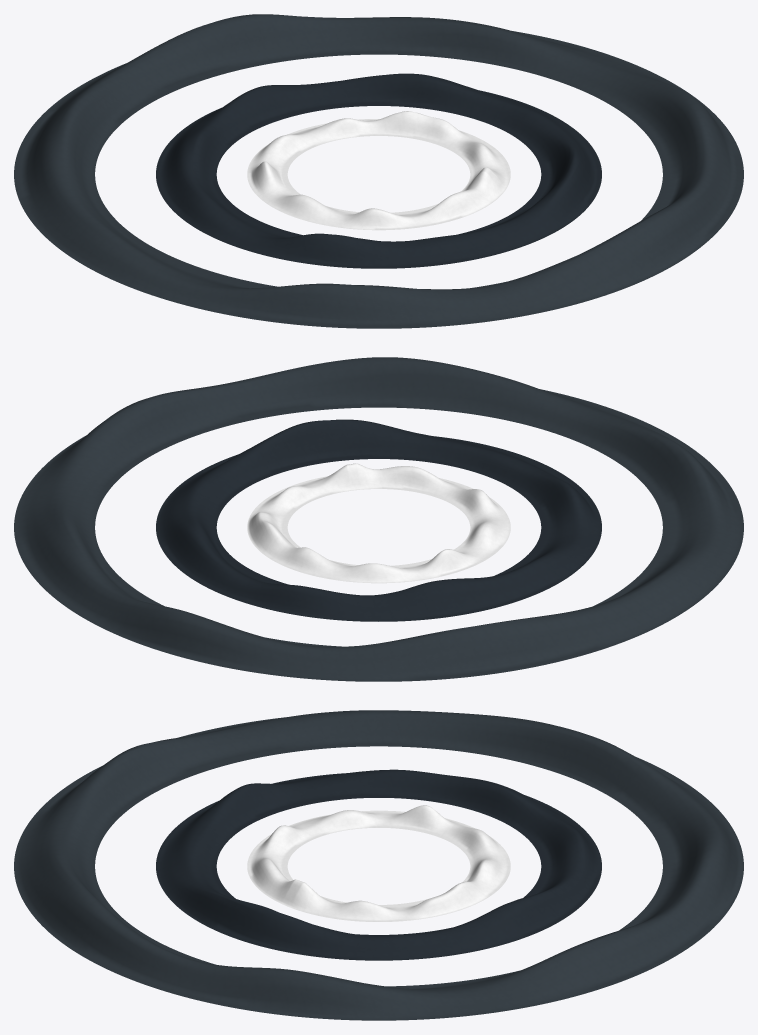
The model's file is environment.glb.
3 renders of one model, top to bottom at view 1: azimuth 30°, elevation 25°; view 2: azimuth 150°, elevation 25°; view 3: azimuth 270°, elevation 25°, orthographic.
Visible parts, largest first — view 1: MOUNTAIN_FAR_03, MOUNTAIN_FAR_02, MOUNTAIN_FAR_04, MOUNTAIN_FAR_01, MOUNTAIN_MID_03, MOUNTAIN_MID_01, MOUNTAIN_MID_04, MOUNTAIN_MID_02, MOUNTAIN_NEAR_03, MOUNTAIN_NEAR_04, MOUNTAIN_NEAR_02, MOUNTAIN_NEAR_01; view 2: MOUNTAIN_FAR_02, MOUNTAIN_FAR_03, MOUNTAIN_FAR_04, MOUNTAIN_FAR_01, MOUNTAIN_MID_04, MOUNTAIN_MID_03, MOUNTAIN_MID_02, MOUNTAIN_MID_01, MOUNTAIN_NEAR_02, MOUNTAIN_NEAR_04, MOUNTAIN_NEAR_03, MOUNTAIN_NEAR_01; view 3: MOUNTAIN_FAR_02, MOUNTAIN_FAR_01, MOUNTAIN_FAR_03, MOUNTAIN_FAR_04, MOUNTAIN_MID_04, MOUNTAIN_MID_01, MOUNTAIN_MID_03, MOUNTAIN_MID_02, MOUNTAIN_NEAR_03, MOUNTAIN_NEAR_02, MOUNTAIN_NEAR_04, MOUNTAIN_NEAR_01.
Part boxes in pixels (box(x1,y1,x2,y2)): MOUNTAIN_FAR_03: box(14, 127, 362, 328); MOUNTAIN_FAR_02: box(17, 14, 456, 157); MOUNTAIN_FAR_04: box(360, 171, 740, 328); MOUNTAIN_FAR_01: box(448, 20, 743, 193); MOUNTAIN_MID_03: box(188, 204, 515, 268); MOUNTAIN_MID_01: box(243, 73, 546, 129); MOUNTAIN_MID_04: box(479, 109, 601, 248); MOUNTAIN_MID_02: box(156, 94, 269, 222); MOUNTAIN_NEAR_03: box(247, 161, 403, 230); MOUNTAIN_NEAR_04: box(396, 160, 510, 229); MOUNTAIN_NEAR_02: box(247, 118, 382, 178); MOUNTAIN_NEAR_01: box(382, 111, 508, 166); MOUNTAIN_FAR_02: box(28, 542, 515, 681); MOUNTAIN_FAR_03: box(495, 440, 743, 670); MOUNTAIN_FAR_04: box(250, 357, 703, 472); MOUNTAIN_FAR_01: box(14, 378, 267, 569); MOUNTAIN_MID_04: box(168, 419, 462, 505); MOUNTAIN_MID_03: box(440, 440, 601, 572); MOUNTAIN_MID_02: box(310, 555, 573, 621); MOUNTAIN_MID_01: box(156, 489, 317, 616); MOUNTAIN_NEAR_02: box(263, 540, 452, 583); MOUNTAIN_NEAR_04: box(293, 463, 473, 501); MOUNTAIN_NEAR_03: box(430, 489, 510, 573); MOUNTAIN_NEAR_01: box(247, 485, 318, 553); MOUNTAIN_FAR_02: box(554, 731, 743, 973); MOUNTAIN_FAR_01: box(160, 936, 640, 1020); MOUNTAIN_FAR_03: box(73, 710, 577, 800); MOUNTAIN_FAR_04: box(14, 766, 207, 989); MOUNTAIN_MID_04: box(158, 867, 421, 960); MOUNTAIN_MID_01: box(410, 831, 601, 958); MOUNTAIN_MID_03: box(156, 770, 375, 879); MOUNTAIN_MID_02: box(375, 769, 596, 851); MOUNTAIN_NEAR_03: box(254, 805, 429, 853); MOUNTAIN_NEAR_02: box(419, 806, 510, 895); MOUNTAIN_NEAR_04: box(247, 844, 346, 918); MOUNTAIN_NEAR_01: box(336, 881, 489, 921).
Size of the model in its own units: 720 by 34.49 by 720.
Materials: 3 (3 with a texture image).
